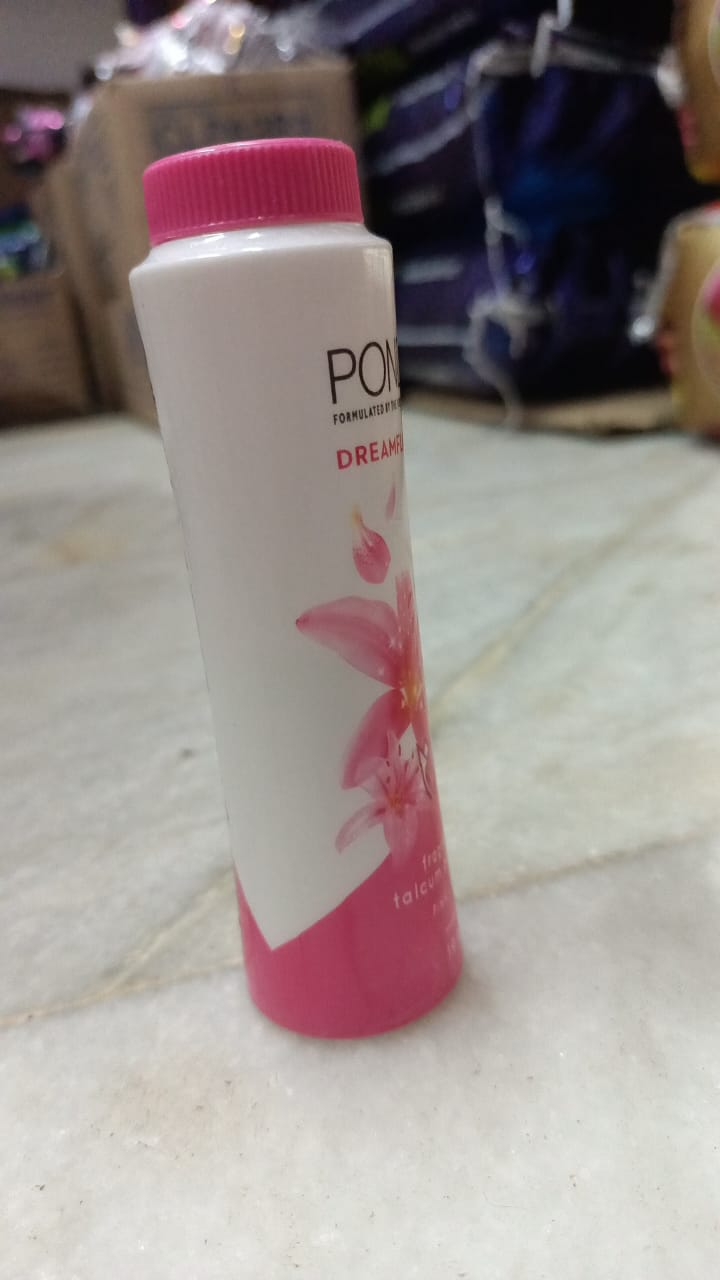ponds face powder: (122, 124, 494, 1048)
